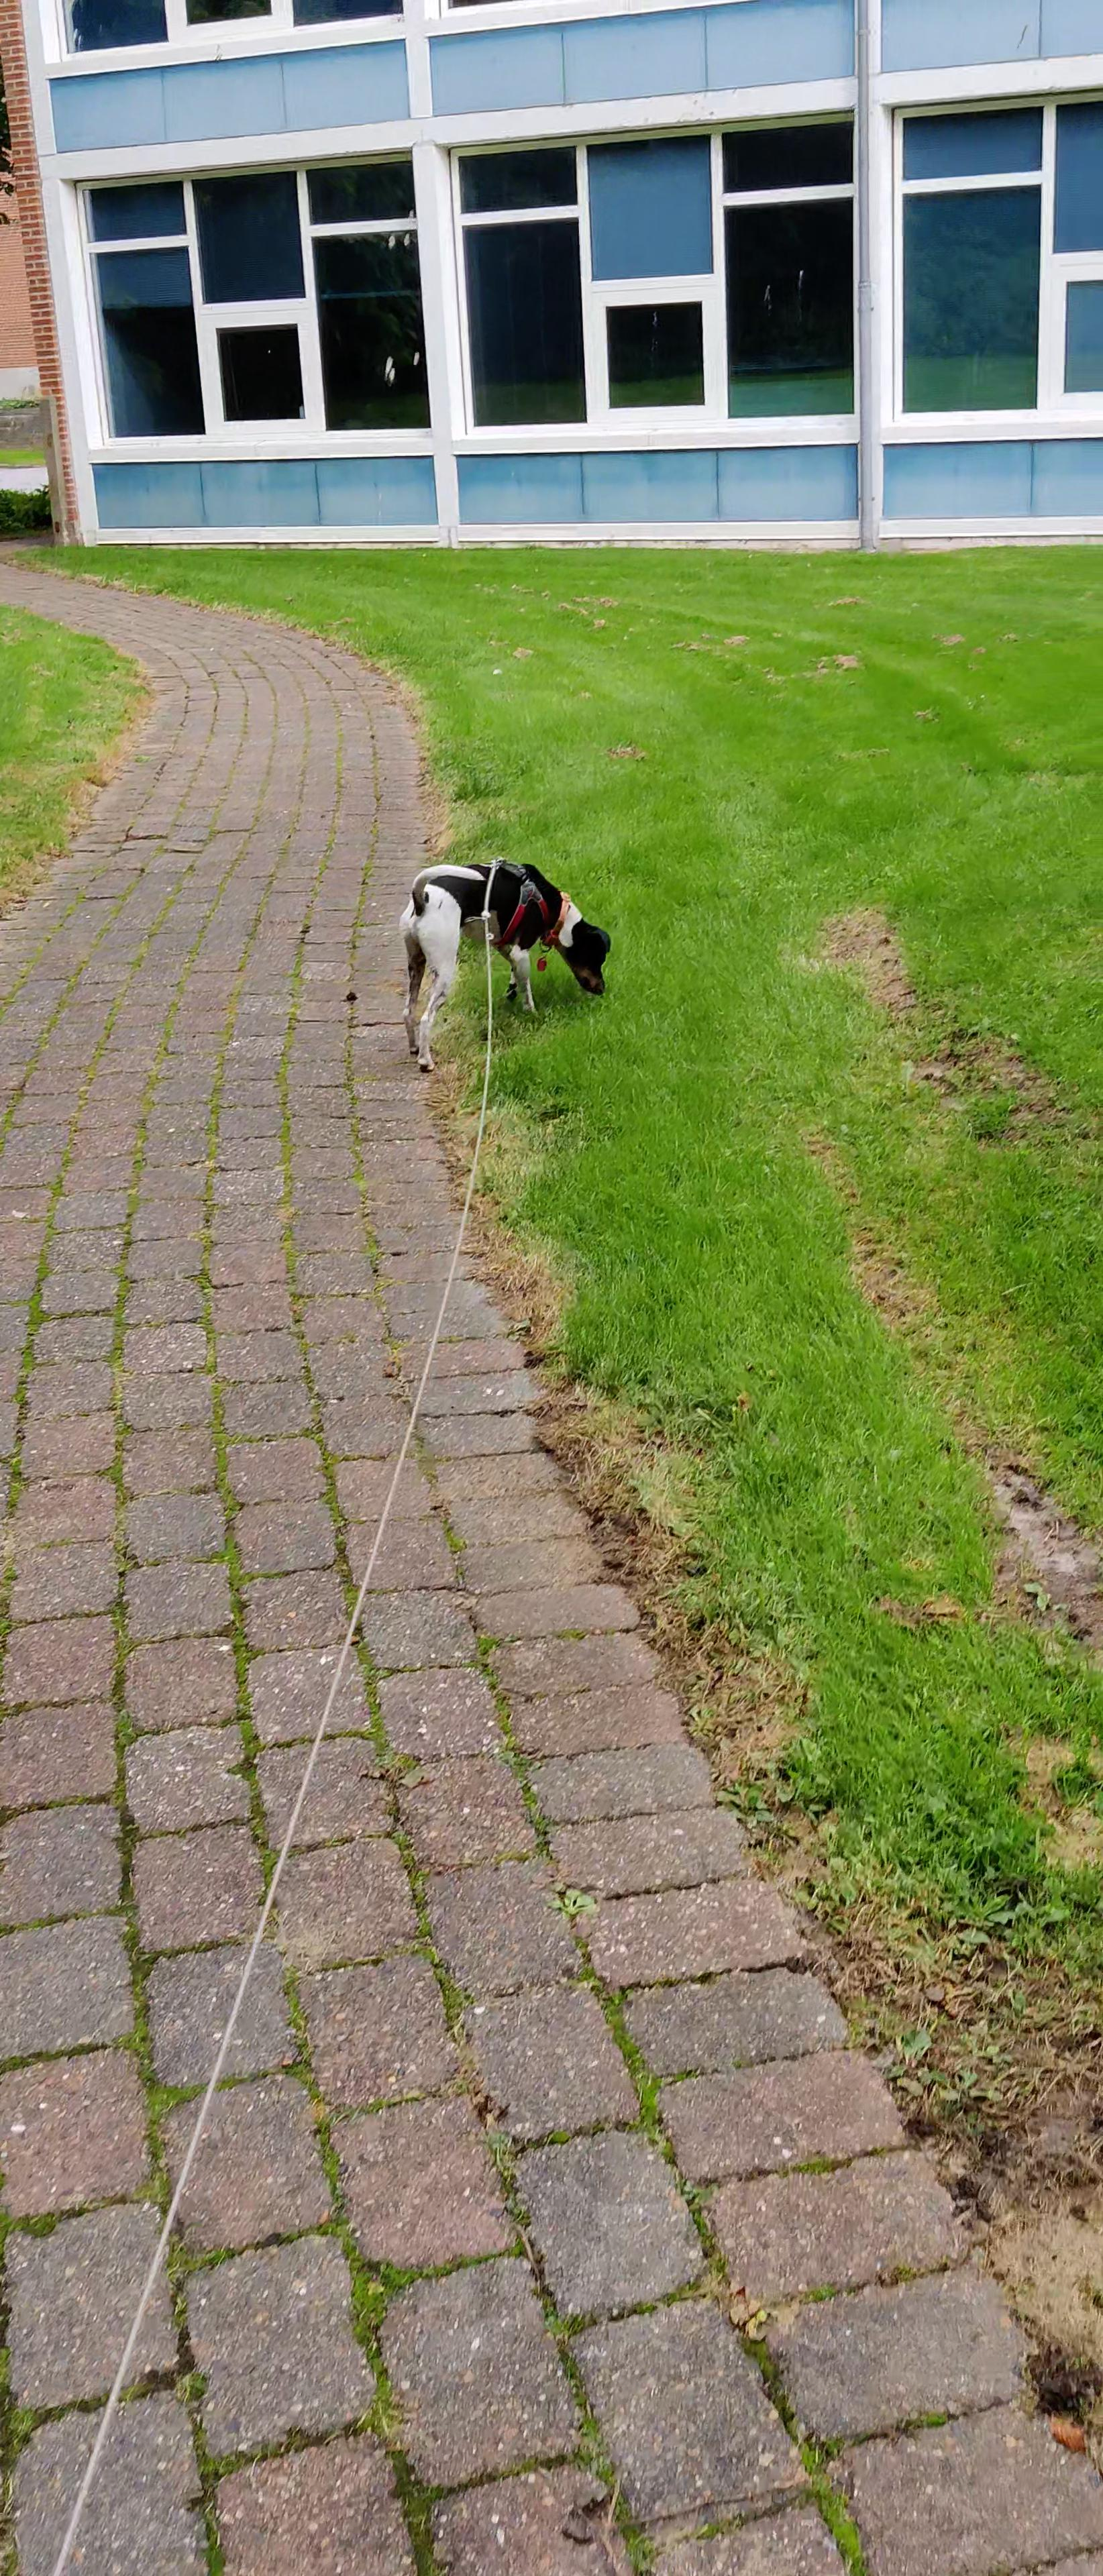Dog: (391, 853, 616, 1074)
